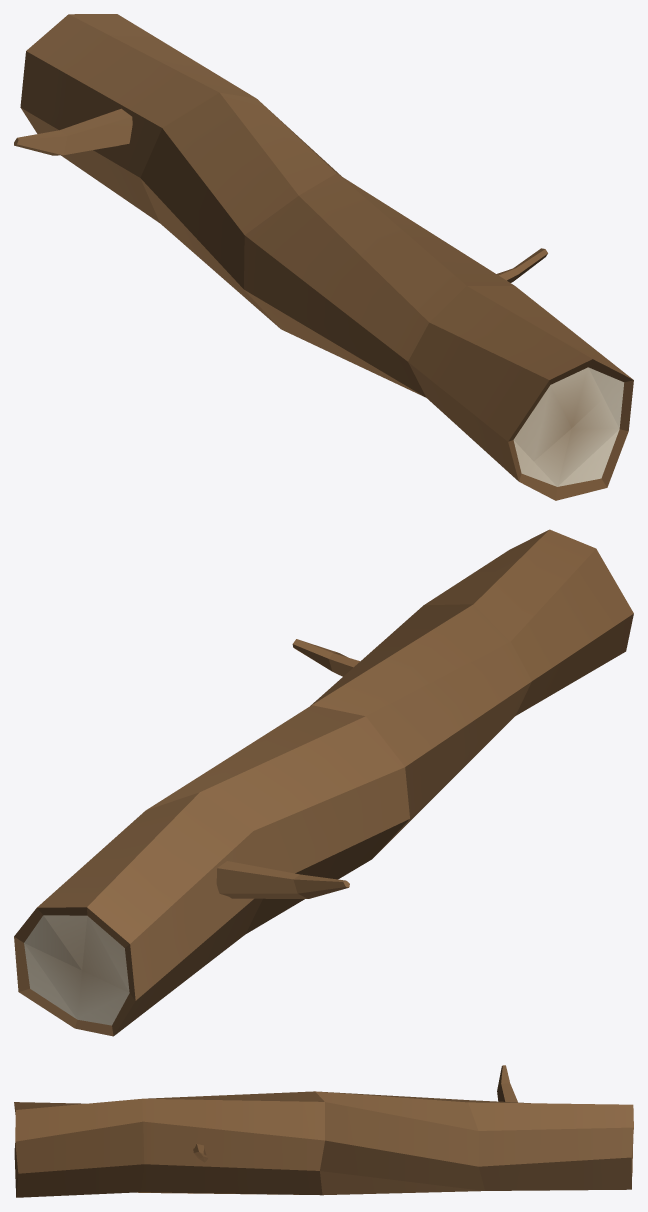
The model's file is log_branched.fbx.
The picture shows the model from 3 angles, top to bottom: view 1: azimuth 30°, elevation 25°; view 2: azimuth 150°, elevation 25°; view 3: azimuth 270°, elevation 25°; orthographic projection. The views are drawn at different scales.
Visible parts, largest first — view 1: log_branched; view 2: log_branched; view 3: log_branched.
Part boxes in pixels (<box>): log_branched: <box>14,14,633,500</box>; log_branched: <box>14,529,633,1036</box>; log_branched: <box>14,1065,633,1197</box>.
Bounding box in the file's own units: 1.2 × 0.55 × 3.5.
1 material, 1 textured.
